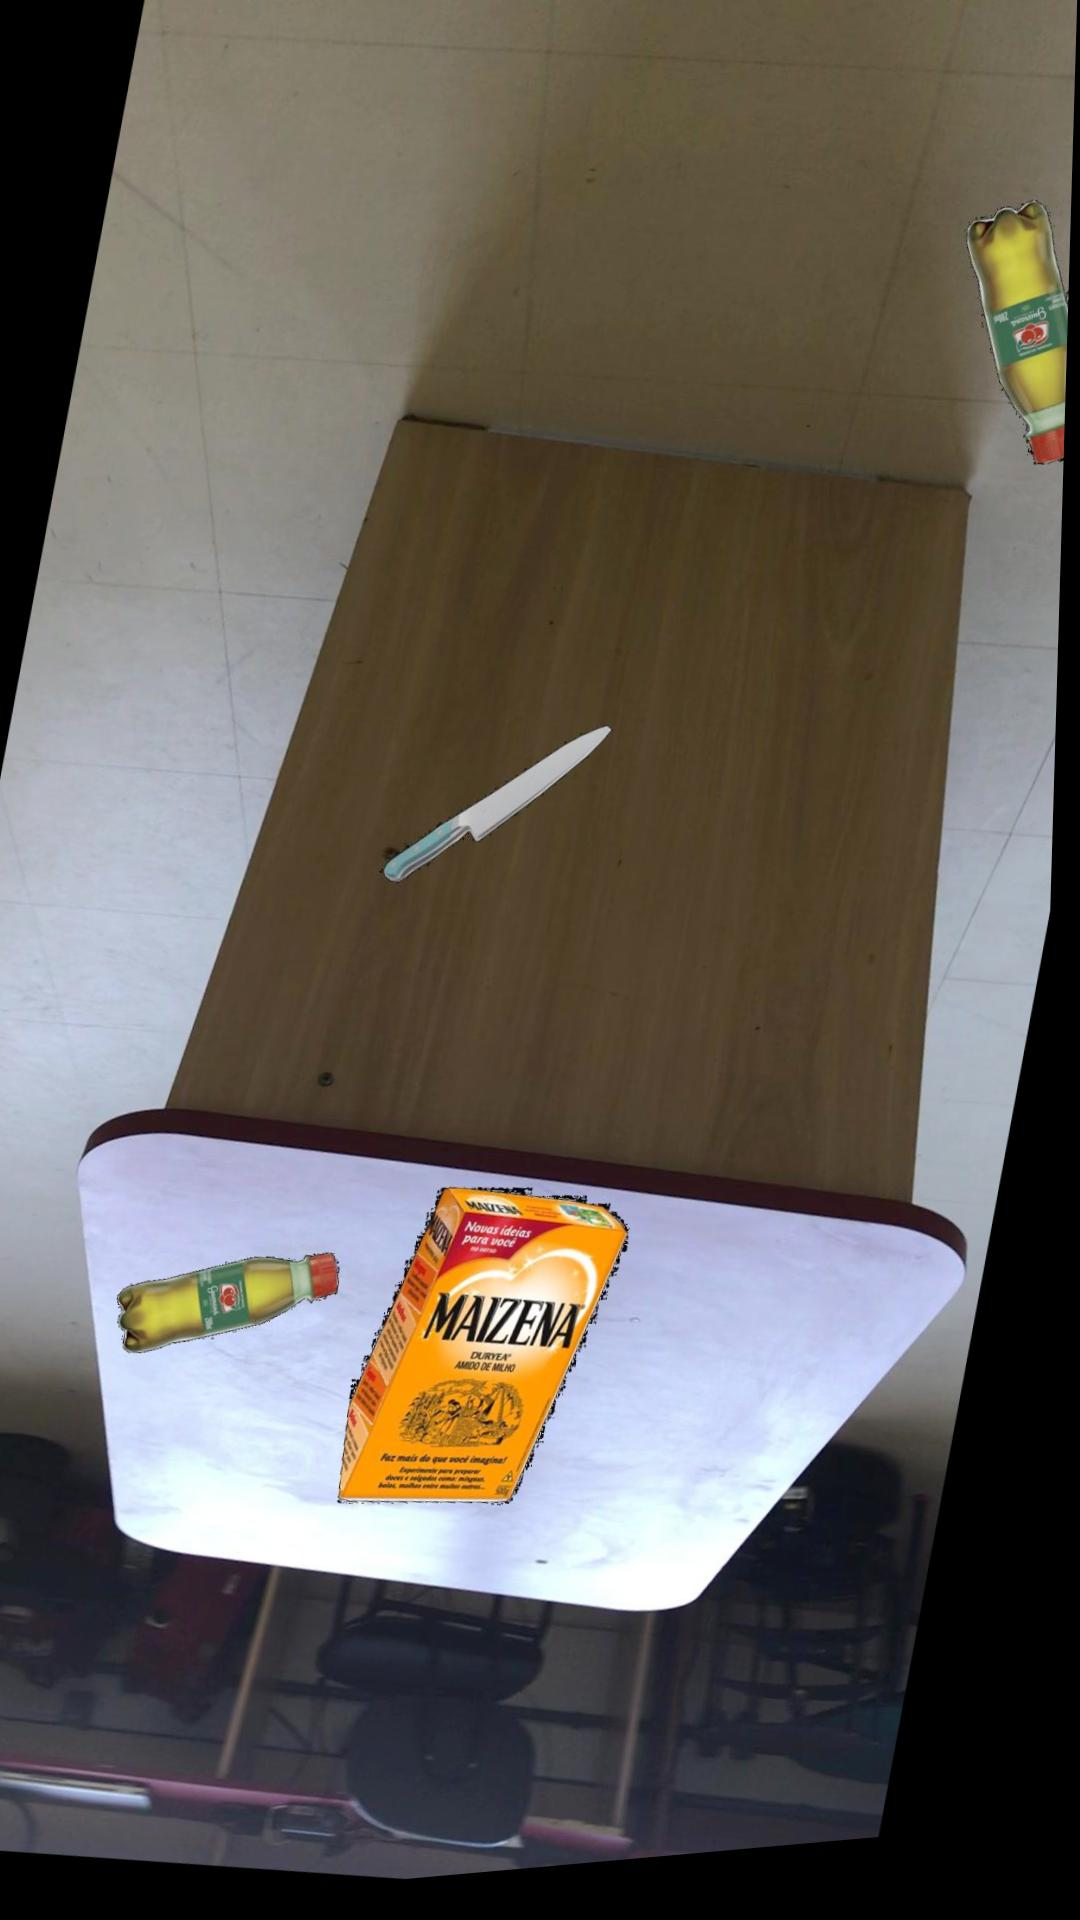guarana: (965, 220, 1071, 485), (123, 1259, 344, 1357)
knife: (384, 737, 615, 891)
